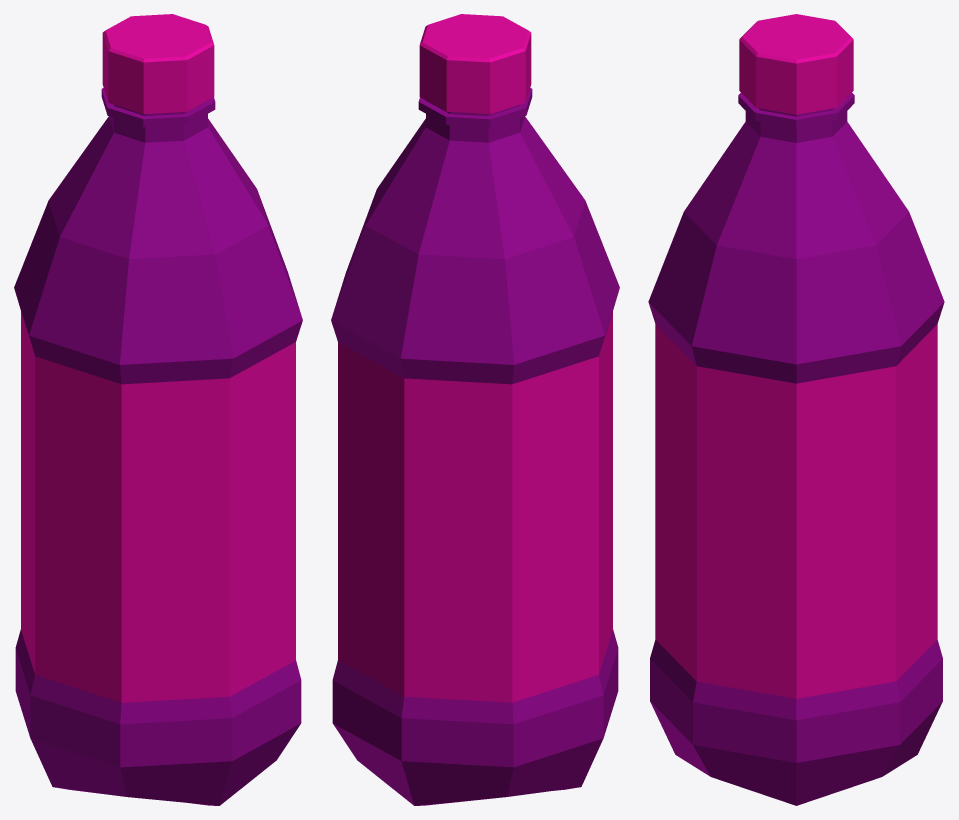
The model's file is WaterBottle_01.fbx.
3 views of the same model, side by side, from view 1: azimuth 30°, elevation 25°; view 2: azimuth 150°, elevation 25°; view 3: azimuth 270°, elevation 25° (orthographic).
Parts seen in each view (by area): view 1: WaterBottle_01; view 2: WaterBottle_01; view 3: WaterBottle_01.
Boxes of the visible parts, x1,y1,x2,y2 form: WaterBottle_01: (14,14,302,805); WaterBottle_01: (331,14,619,805); WaterBottle_01: (648,14,944,805).
Bounding box in the file's own units: 2.75 × 7.42 × 2.75.
